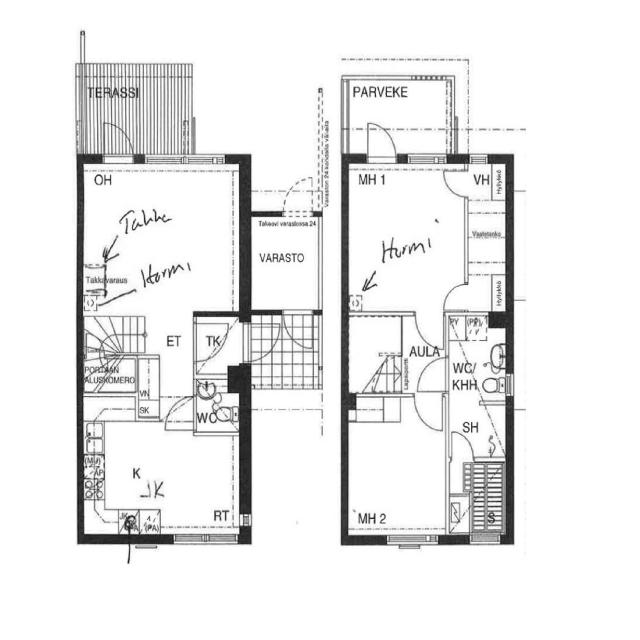door: (409, 356, 448, 436), (362, 118, 402, 167), (240, 321, 278, 366), (280, 173, 317, 219), (102, 120, 137, 165), (279, 306, 314, 349), (161, 396, 197, 435), (416, 354, 450, 395), (414, 312, 444, 351), (442, 278, 472, 314), (441, 167, 472, 200), (448, 428, 478, 462)
window: (164, 527, 242, 553), (137, 150, 226, 172), (379, 529, 444, 556), (311, 214, 327, 310), (403, 148, 452, 170), (465, 531, 504, 550), (238, 509, 255, 536), (504, 370, 518, 400), (468, 150, 492, 167)
zone: (79, 161, 244, 304), (80, 418, 243, 536), (343, 160, 466, 314), (343, 396, 450, 540), (448, 312, 512, 462), (246, 211, 321, 313), (464, 158, 510, 315), (343, 314, 406, 394), (455, 458, 507, 539), (193, 312, 237, 380), (194, 380, 240, 436), (80, 260, 107, 294)
